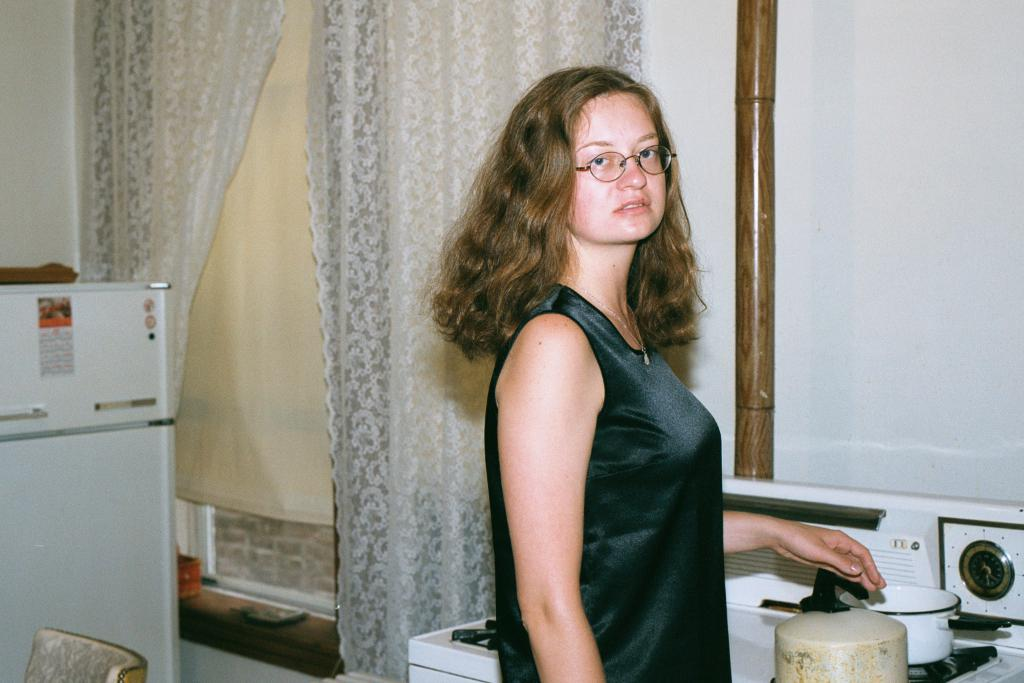handle: (0, 397, 50, 427), (91, 394, 158, 416)
refrigerator door: (7, 431, 173, 671), (4, 298, 167, 428)
